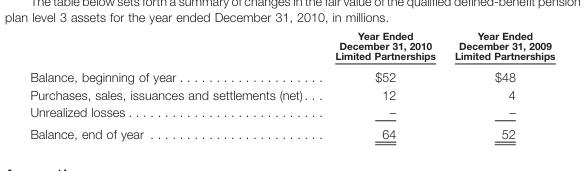table: (29, 29, 554, 140)
table column: (29, 29, 320, 140), (320, 29, 444, 140), (444, 29, 554, 140)
table column header: (29, 29, 554, 65)
table row: (29, 29, 554, 65), (29, 102, 554, 122), (29, 65, 554, 84), (29, 84, 554, 102), (29, 122, 554, 140)
